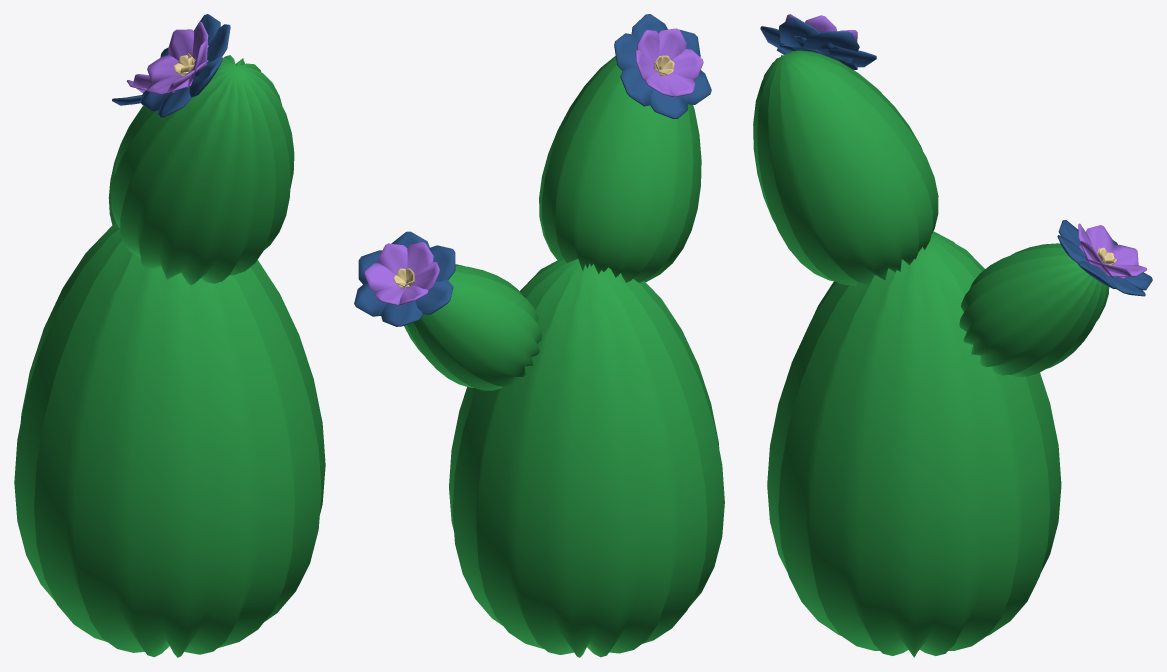
Rendered from cactus1.glb.
3 renders of one model, left to right at view 1: azimuth 30°, elevation 25°; view 2: azimuth 150°, elevation 25°; view 3: azimuth 270°, elevation 25°, orthographic. The views are drawn at different scales.
Visible parts, largest first — view 1: Sphere, Sphere.002, flower.001, flower; view 2: Sphere, Sphere.002, Sphere.001, flower, flower.001; view 3: Sphere, Sphere.002, Sphere.001, flower, flower.001.
Part boxes in pixels (x1,y1,x2,y2): Sphere: [14, 223, 325, 657]; Sphere.002: [111, 55, 294, 285]; flower.001: [141, 14, 230, 117]; flower: [112, 74, 152, 105]; Sphere: [449, 258, 724, 657]; Sphere.002: [539, 56, 701, 282]; Sphere.001: [404, 264, 541, 390]; flower: [354, 231, 455, 326]; flower.001: [614, 14, 711, 118]; Sphere: [767, 231, 1061, 657]; Sphere.002: [753, 50, 938, 285]; Sphere.001: [959, 243, 1109, 376]; flower: [1057, 220, 1152, 296]; flower.001: [760, 14, 876, 69].
Bounding box in the file's own units: 0.2402 × 0.5213 × 0.3014.
